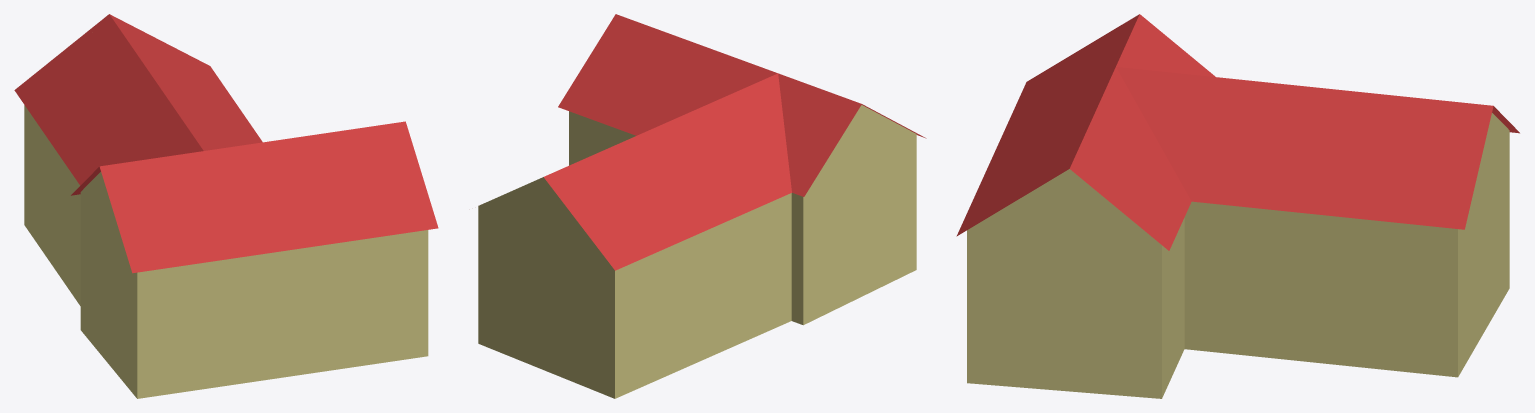
3 renders of one model, left to right at view 1: azimuth 30°, elevation 25°; view 2: azimuth 150°, elevation 25°; view 3: azimuth 270°, elevation 25°, orthographic. The views are drawn at different scales.
Bounding box in the file's own units: 22.26 × 30.84 × 13.67.
